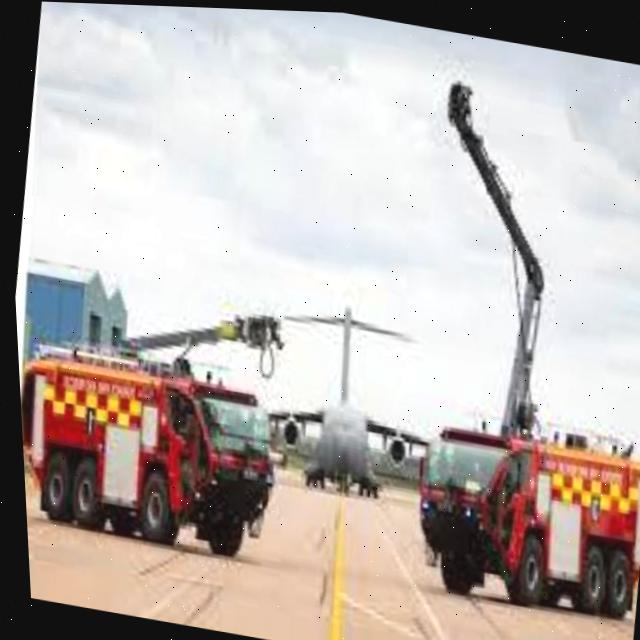emergency: (13, 328, 290, 562), (389, 390, 640, 621)
